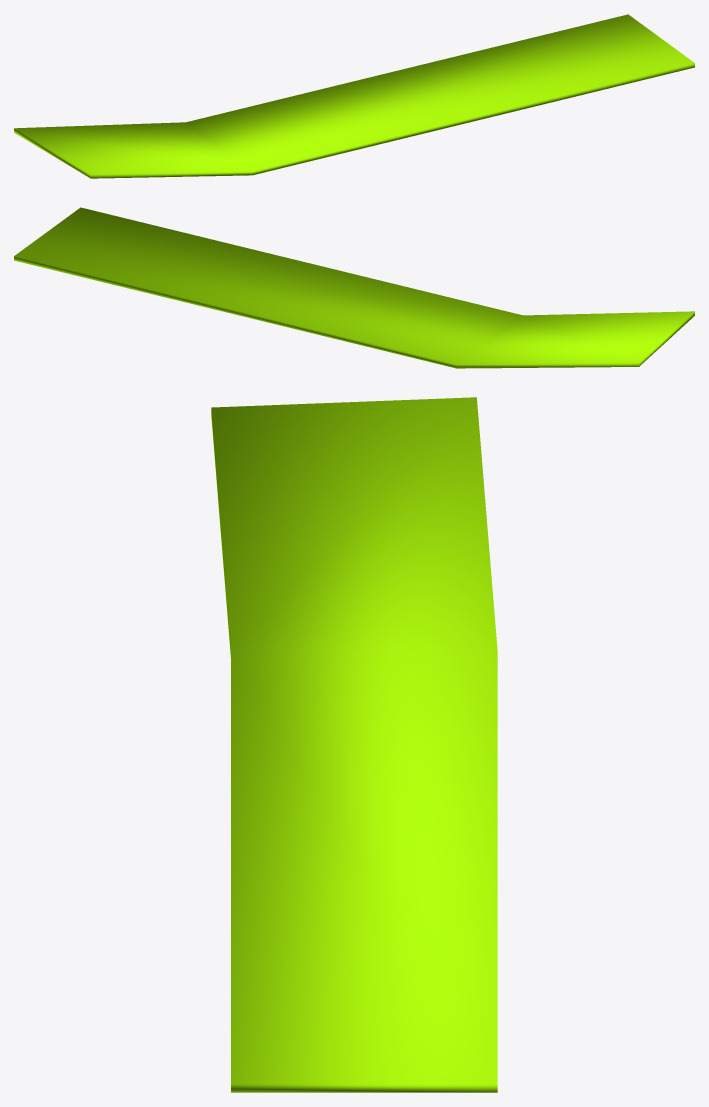
The model's file is MetalPlate_On_Floor_COL.FBX.
The picture shows the model from 3 angles, top to bottom: view 1: azimuth 30°, elevation 25°; view 2: azimuth 150°, elevation 25°; view 3: azimuth 270°, elevation 25°; orthographic projection. The views are drawn at different scales.
Visible parts, largest first — view 1: MetalPlate_On_Floor_COL; view 2: MetalPlate_On_Floor_COL; view 3: MetalPlate_On_Floor_COL.
Part boxes in pixels (bbox=[...]): MetalPlate_On_Floor_COL: bbox=[14, 14, 694, 178]; MetalPlate_On_Floor_COL: bbox=[14, 207, 694, 368]; MetalPlate_On_Floor_COL: bbox=[211, 397, 497, 1092].
Bounding box in the file's own units: 100 × 7 × 20.03.
